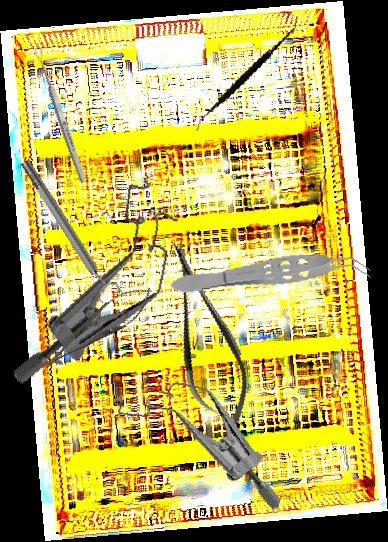Fixation Ring: (14, 154, 123, 305)
Micro Scissor: (150, 233, 263, 440)
Needle Holder: (34, 276, 160, 380)
Spatula Surgical: (195, 0, 298, 147)
Speculum: (11, 156, 187, 409), (98, 366, 301, 512)
Surgical Spoon: (33, 46, 88, 184)
Tissue Forceps: (168, 245, 374, 303)
